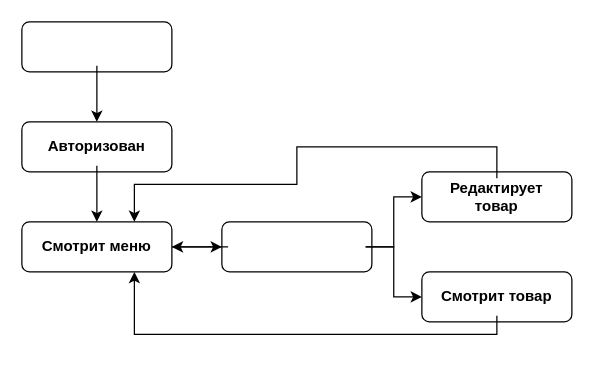
Image size: 594x366. Some labels were removed from this diagram. Each missing label, with the centre of its shape:
"Выбрал товар" belongs at (x=296, y=246).
"Не авторизован" belongs at (x=96, y=46).
